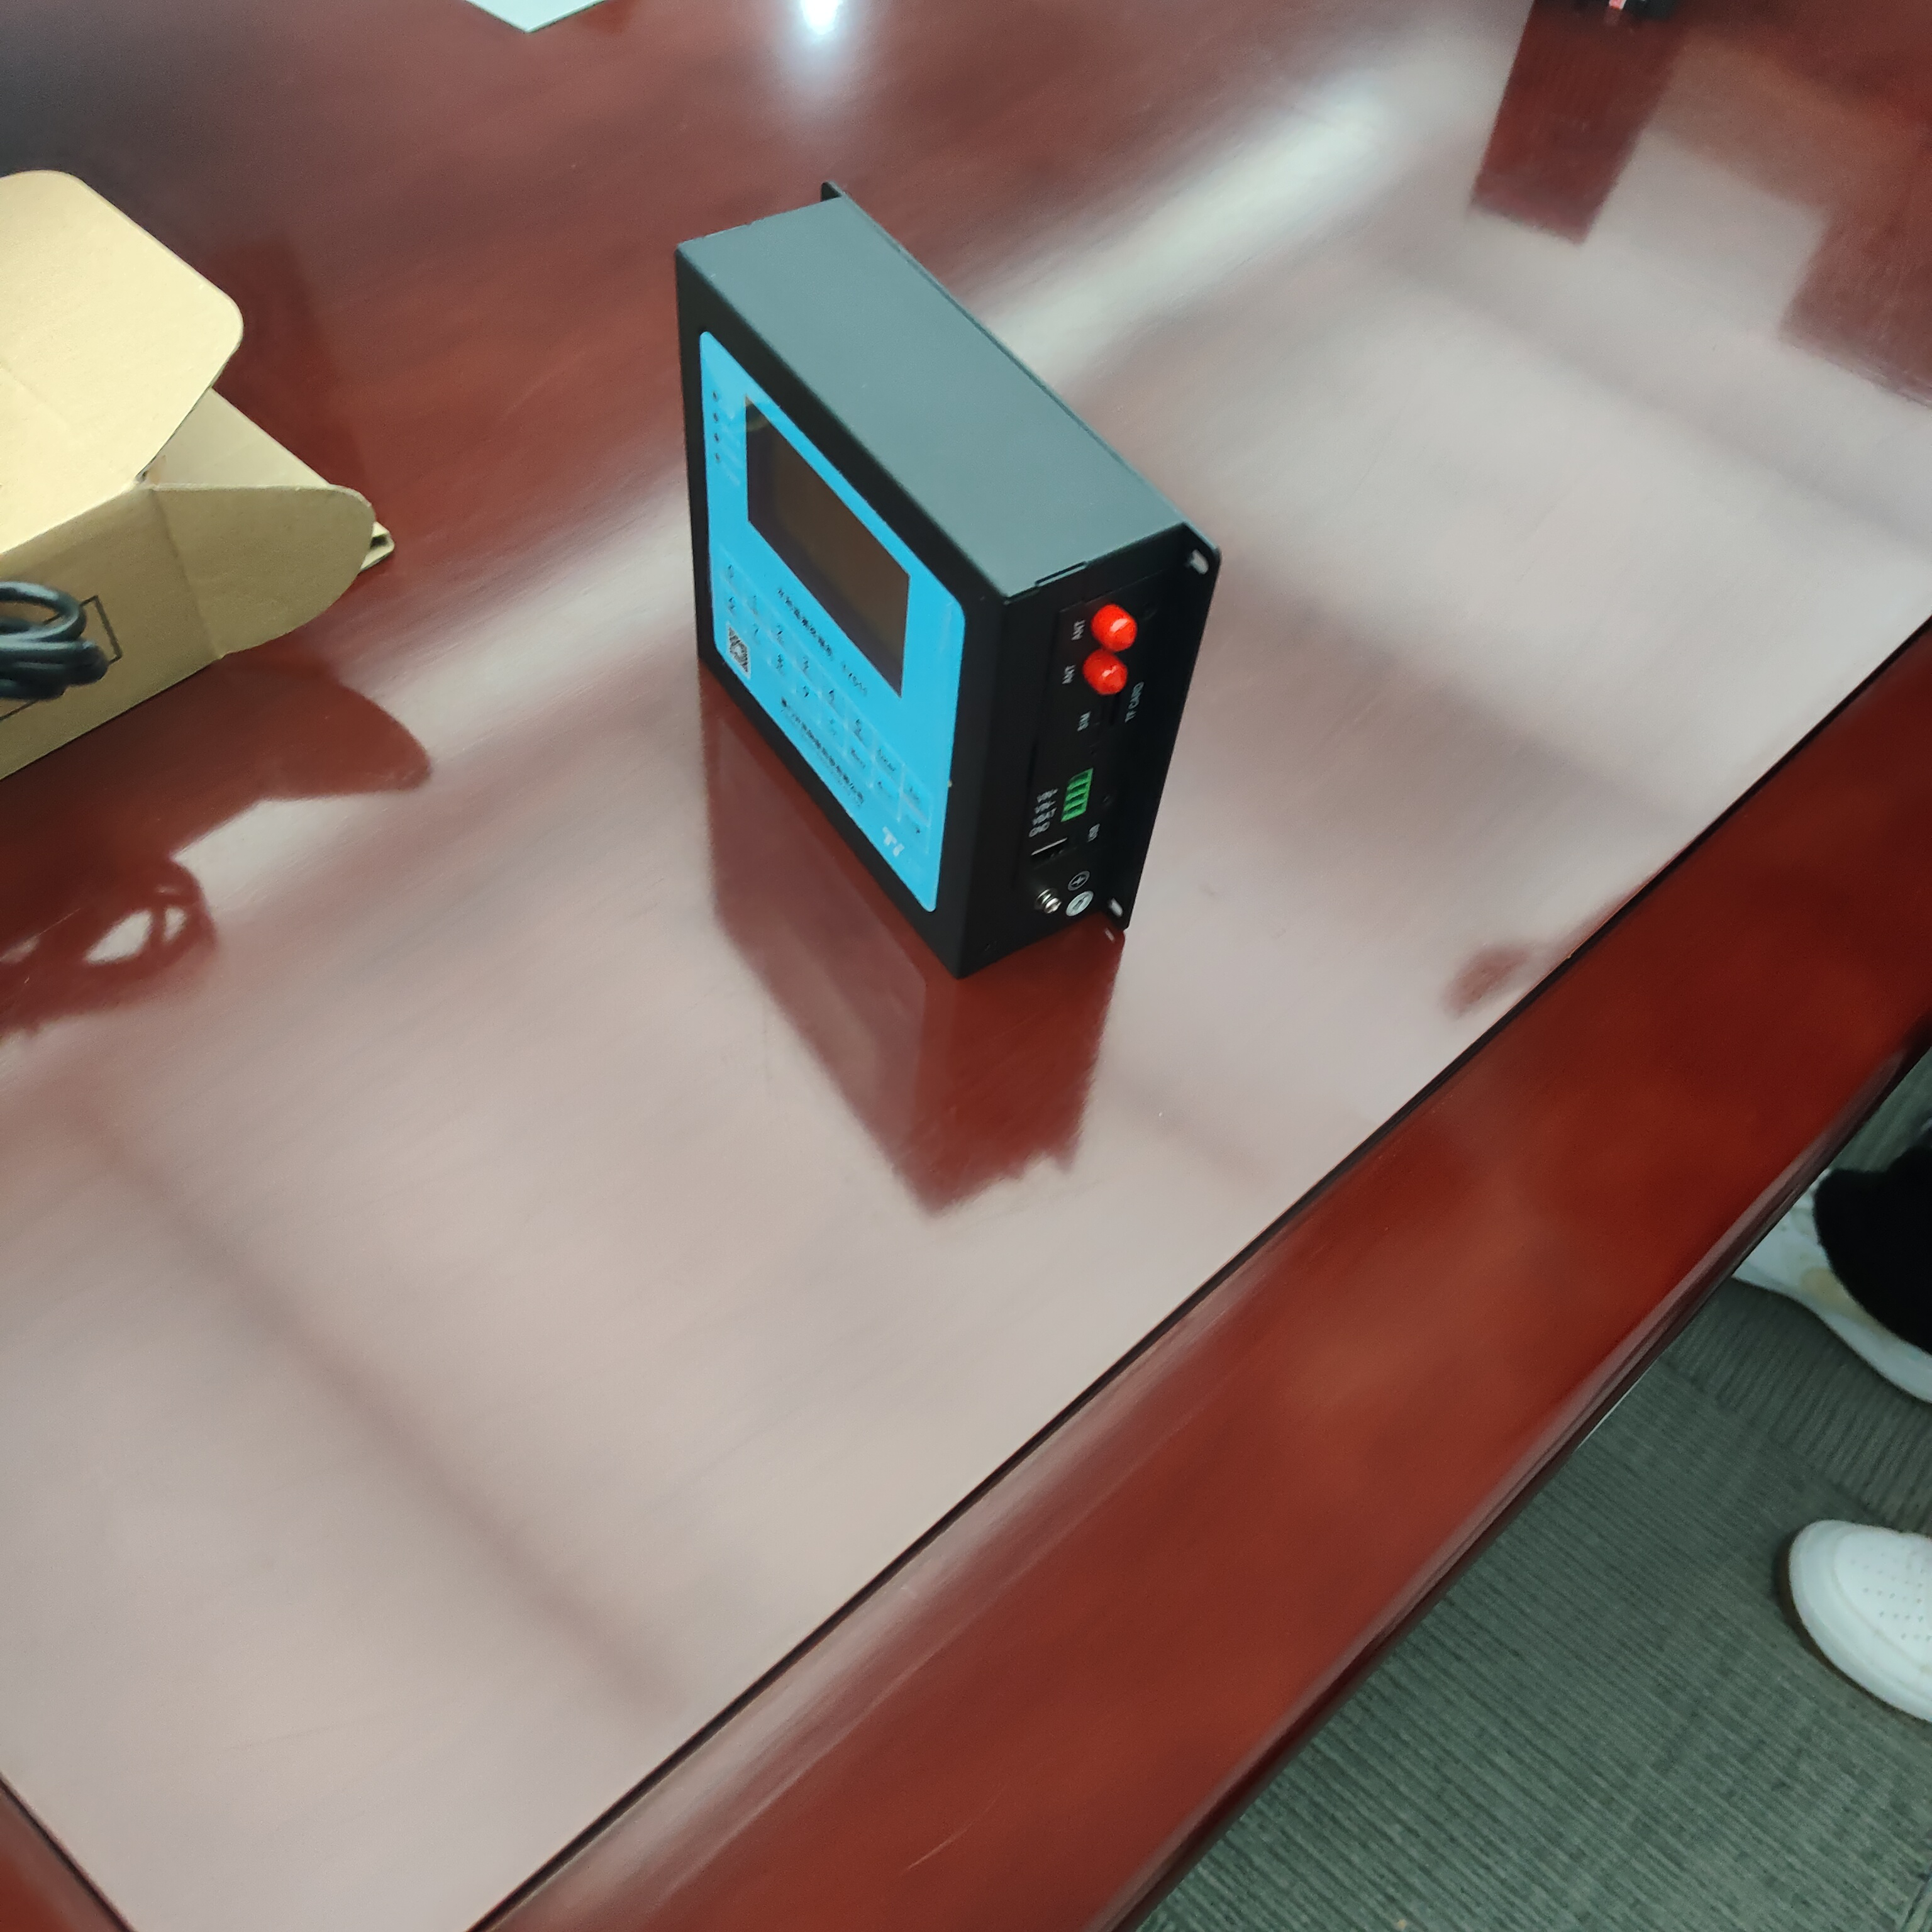slyczd: (662, 142, 1235, 987)
